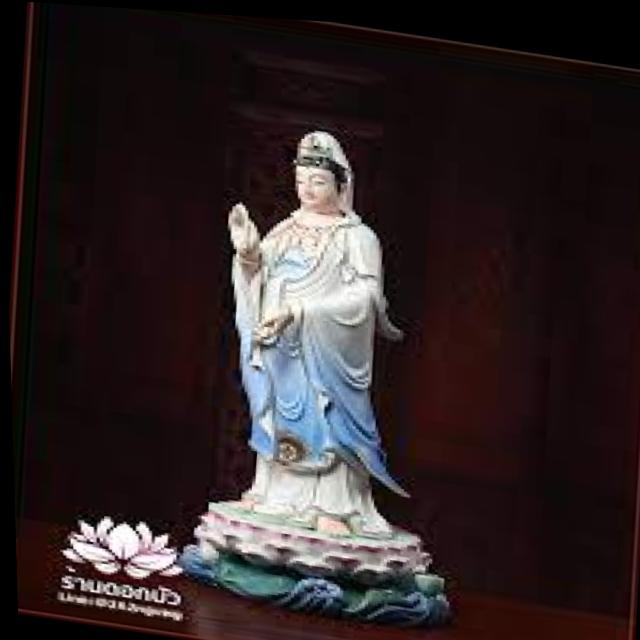Guan Yin: (197, 111, 413, 505)
